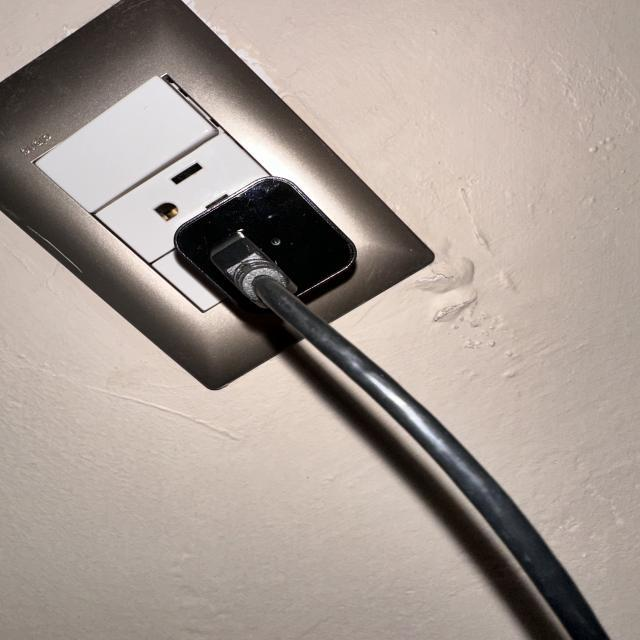hidden camera: (270, 237, 281, 246)
